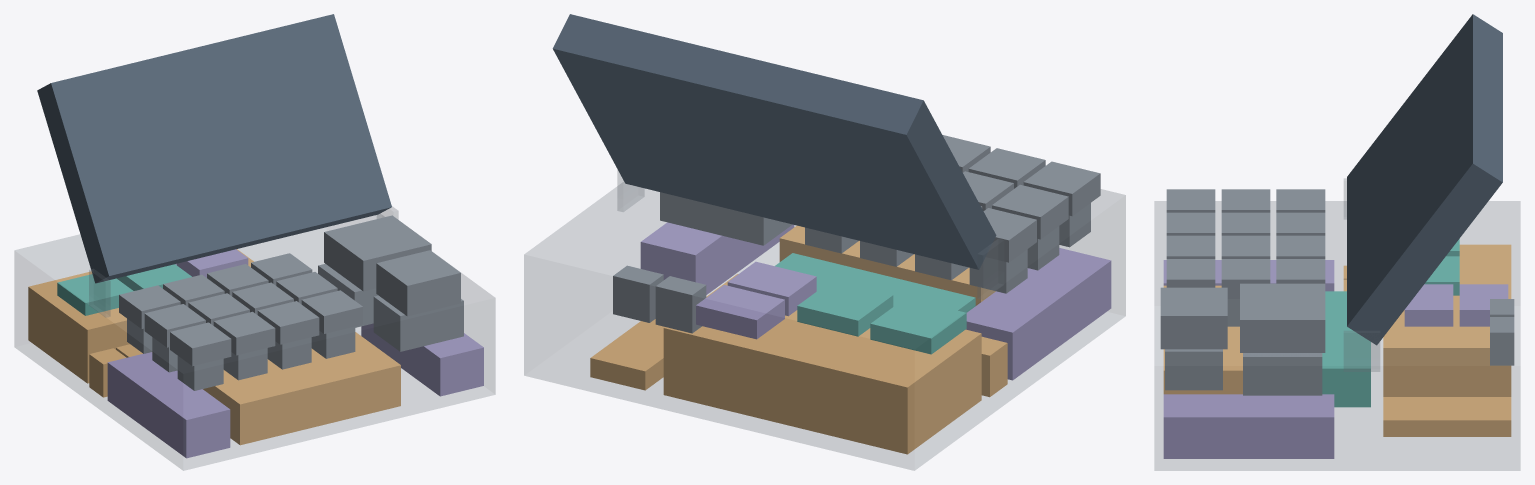
Rendered from cuadricula.glb.
3 renders of one model, left to right at view 1: azimuth 30°, elevation 25°; view 2: azimuth 150°, elevation 25°; view 3: azimuth 270°, elevation 25°, orthographic. The views are drawn at different scales.
Visible parts, largest first — view 1: Pantalla 4″ con bisel provisional, Volumen de carcasa propuesto, LM2596S + voltímetro, Parlante izquierdo, Encoder (×2), Portaceldas + 2×18650, Joystick (×2), Parlante derecho, 1, NeoPixel zona 1 · 4 LEDs, 2, 3 (+19 smaller); view 2: Volumen de carcasa propuesto, Pantalla 4″ con bisel provisional, Portaceldas + 2×18650, Parlante izquierdo, Parlante derecho, NeoPixel zona 1 · 4 LEDs, BMS 2S USB-C, ESP32-S3, NeoPixel zona 2 · 4 LEDs, Joystick, LM2596S + voltímetro, MAX98357A R (+17 smaller); view 3: Volumen de carcasa propuesto, Pantalla 4″ con bisel provisional, Parlante derecho, Portaceldas + 2×18650, Joystick (×2), Encoder (×2), BMS 2S USB-C, ESP32-S3, MAX98357A L, LM2596S + voltímetro, MAX98357A R, Reserva soporte lateral (+16 smaller).
Part boxes in pixels (x1,y1,x2,y2): Pantalla 4″ con bisel provisional: (37,14,391,283); Volumen de carcasa propuesto: (14,214,495,470); LM2596S + voltímetro: (203,332,400,445); Parlante izquierdo: (107,352,230,458); Encoder (×2): (373,250,463,351); Portaceldas + 2×18650: (28,249,253,383); Joystick (×2): (318,215,431,327); Parlante derecho: (361,323,483,396); 1: (170,322,231,366); NeoPixel zona 1 · 4 LEDs: (57,274,133,315); 2: (213,311,275,355); 3: (257,301,319,344); Volumen de carcasa propuesto: (524,182,1125,470); Pantalla 4″ con bisel provisional: (552,14,996,269); Portaceldas + 2×18650: (663,274,981,454); Parlante izquierdo: (966,248,1111,380); Parlante derecho: (640,222,794,294); NeoPixel zona 1 · 4 LEDs: (870,298,966,354); BMS 2S USB-C: (590,319,664,390); ESP32-S3: (775,253,975,312); NeoPixel zona 2 · 4 LEDs: (797,280,893,336); Joystick: (660,192,792,245); LM2596S + voltímetro: (779,225,995,305); MAX98357A R: (696,285,784,339); Volumen de carcasa propuesto: (1154,201,1520,470); Pantalla 4″ con bisel provisional: (1347,14,1502,345); Parlante derecho: (1163,394,1334,458); Portaceldas + 2×18650: (1383,244,1511,396); Joystick (×2): (1240,283,1325,395); Encoder (×2): (1160,287,1227,390); BMS 2S USB-C: (1383,397,1511,436); ESP32-S3: (1322,291,1370,407); MAX98357A L: (1404,284,1453,326); LM2596S + voltímetro: (1163,285,1242,394); MAX98357A R: (1459,284,1508,326); Reserva soporte lateral: (1344,331,1379,371).
Bounding box in the file's own units: 0.128 × 0.1084 × 0.12.
